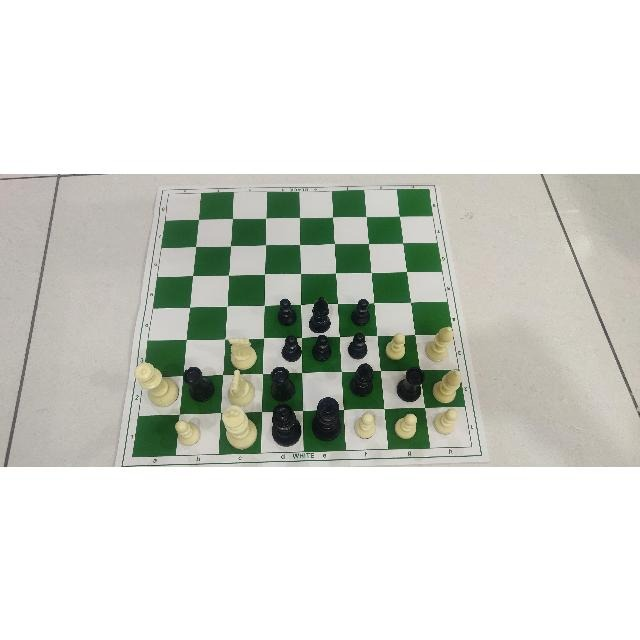black-bishop: (350, 361, 377, 396), (309, 296, 334, 332)
black-king: (310, 398, 343, 444)
black-pawn: (346, 296, 373, 326), (346, 330, 371, 358), (309, 332, 332, 360), (280, 334, 302, 360), (278, 295, 294, 327)
black-queen: (269, 403, 303, 448)
black-rook: (180, 365, 215, 403), (392, 367, 426, 401), (267, 365, 297, 403)
white-bishop: (219, 404, 256, 451), (431, 365, 465, 403), (422, 325, 457, 361)
white-knight: (226, 333, 256, 368), (226, 372, 258, 400)
white-pawn: (392, 409, 422, 440), (433, 406, 463, 436), (350, 409, 380, 439), (173, 417, 203, 445), (384, 329, 409, 360)
white-queen: (131, 364, 178, 406)
